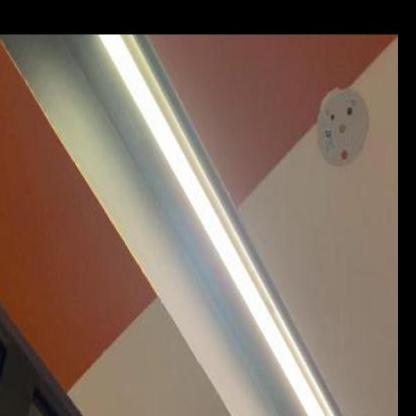light_on: (58, 0, 400, 415)
